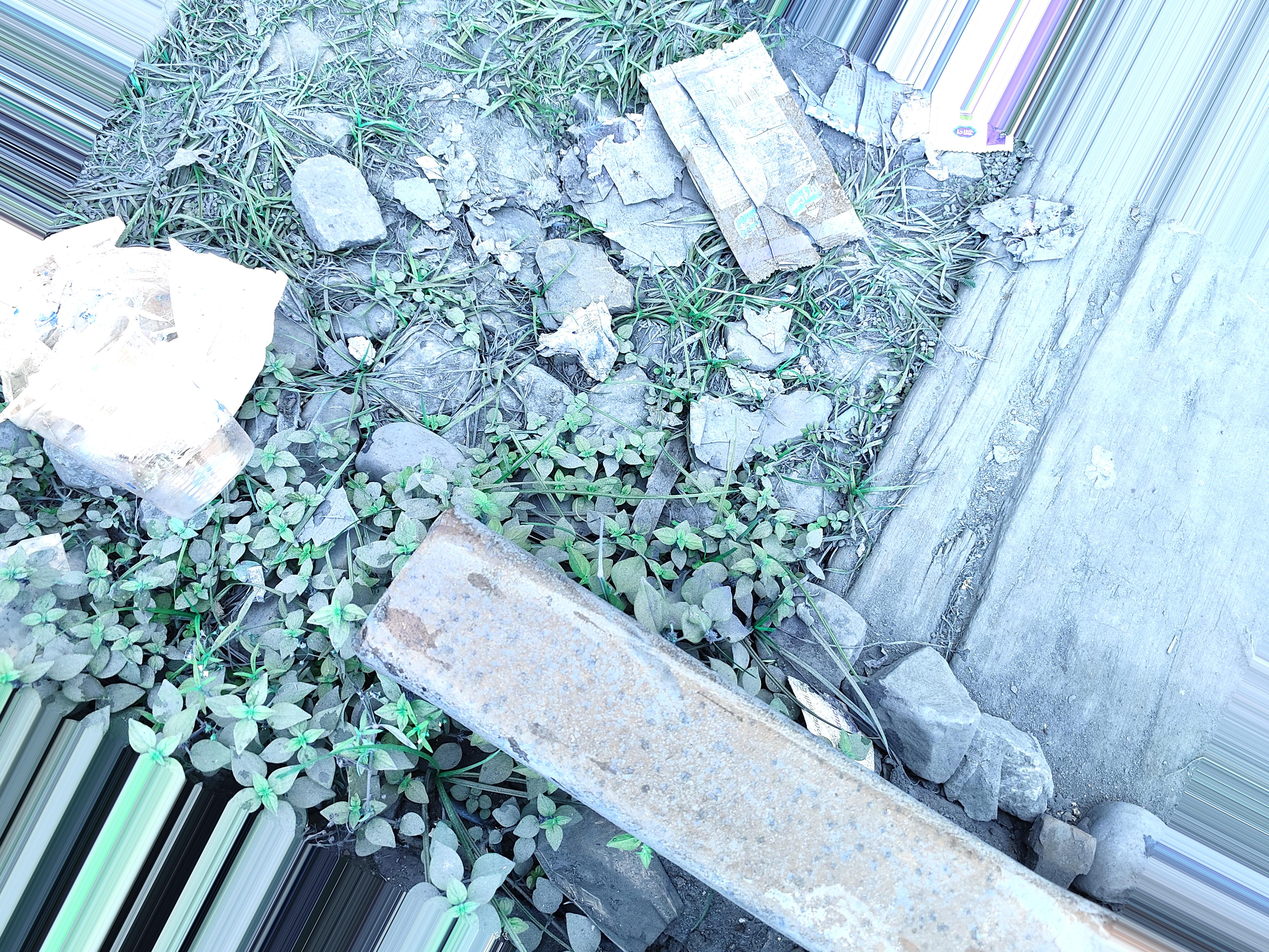tracks_fault: (40, 303, 519, 687)
